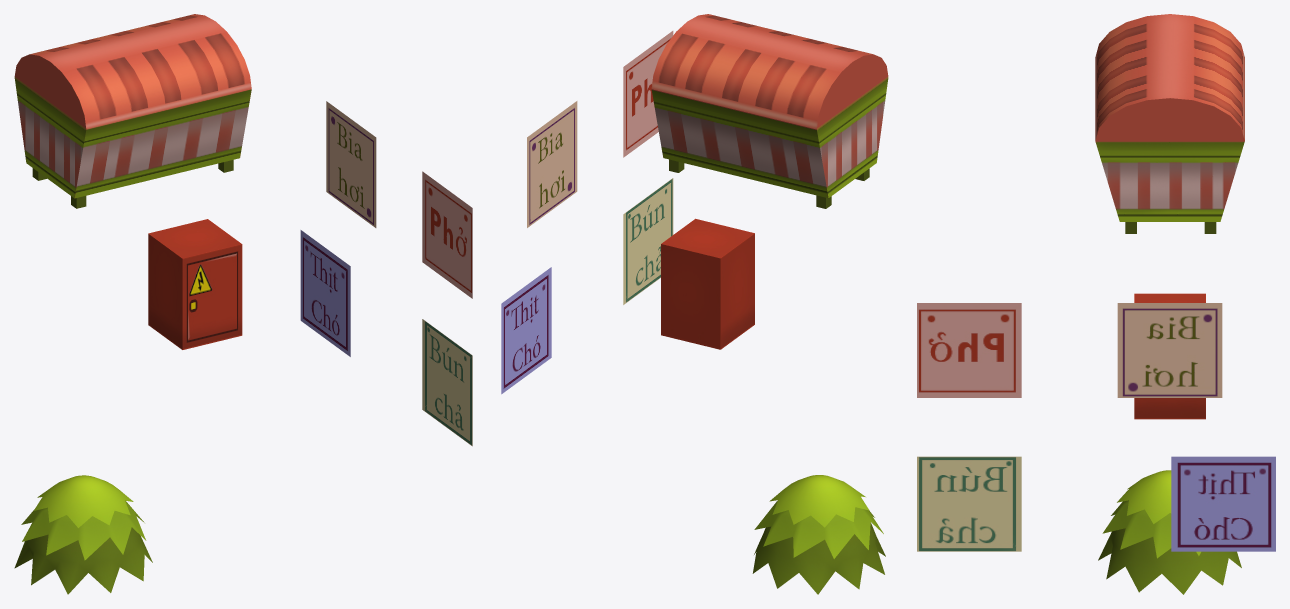
File: vatcan.fbx
The picture shows the model from 3 angles, left to right: view 1: azimuth 30°, elevation 25°; view 2: azimuth 150°, elevation 25°; view 3: azimuth 270°, elevation 25°; orthographic projection. The views are drawn at different scales.
Parts seen in each view (by area): view 1: polySurface149, pSphere16, pCube345, pPlane92, pPlane93, pPlane91, pPlane94; view 2: polySurface149, pSphere16, pCube345, pPlane94, pPlane91, pPlane93, pPlane92; view 3: polySurface149, pPlane93, pPlane94, pPlane91, pPlane92, pSphere16, pCube345.
Part boxes in pixels (x1,y1,x2,y2): polySurface149: [14, 14, 251, 198]; pSphere16: [14, 475, 152, 594]; pCube345: [148, 219, 242, 349]; pPlane92: [422, 171, 472, 298]; pPlane93: [422, 319, 472, 446]; pPlane91: [326, 101, 376, 227]; pPlane94: [300, 230, 350, 356]; polySurface149: [651, 14, 888, 198]; pSphere16: [752, 475, 885, 594]; pCube345: [661, 218, 754, 349]; pPlane94: [501, 267, 551, 394]; pPlane91: [527, 101, 577, 227]; pPlane93: [623, 178, 673, 304]; pPlane92: [623, 31, 673, 157]; polySurface149: [1095, 14, 1244, 233]; pPlane93: [917, 456, 1021, 551]; pPlane94: [1171, 456, 1275, 551]; pPlane91: [1117, 303, 1222, 397]; pPlane92: [917, 303, 1021, 397]; pSphere16: [1098, 470, 1241, 594]; pCube345: [1134, 293, 1205, 419].
Size of the model in its own units: 669 by 1002 by 610.
